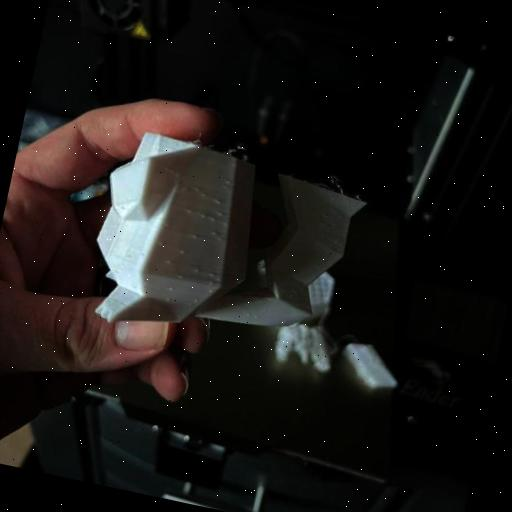blobs: (222, 175, 235, 188), (212, 196, 222, 208), (176, 247, 186, 257), (162, 256, 172, 266), (191, 184, 200, 194), (176, 273, 186, 282), (198, 211, 207, 220), (216, 210, 225, 219), (184, 206, 192, 216), (190, 297, 200, 305), (206, 270, 215, 278), (208, 229, 216, 238), (209, 214, 217, 222), (190, 234, 198, 242), (166, 284, 174, 292), (206, 280, 215, 287), (194, 266, 200, 272)
